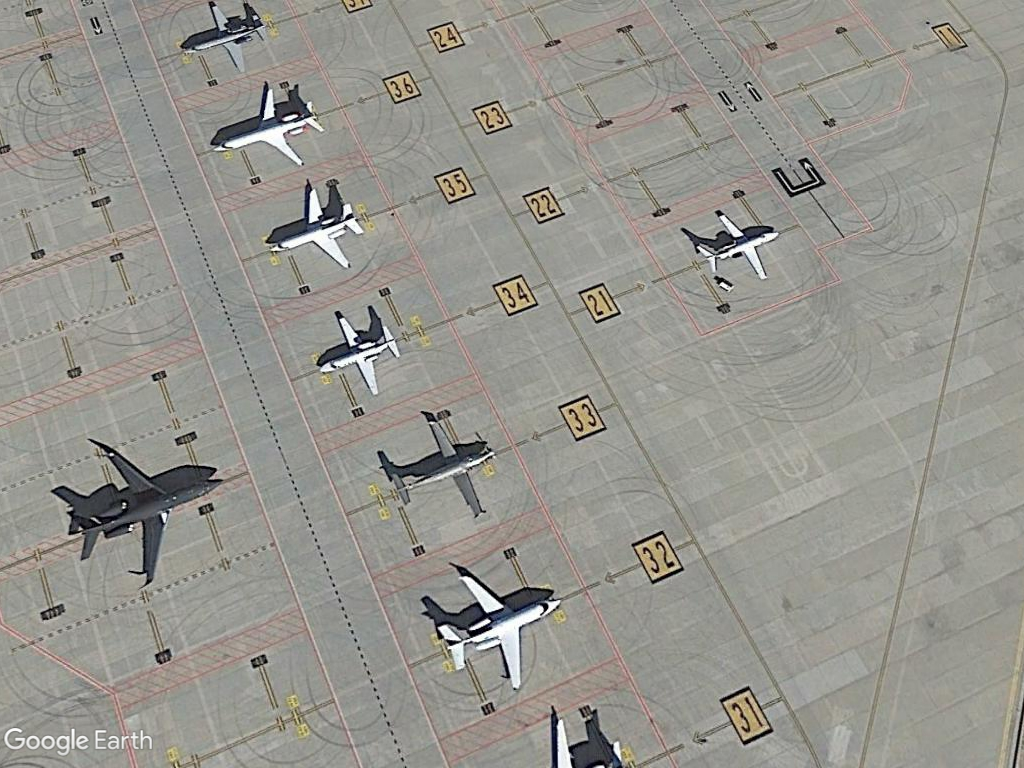chartered: (69, 445, 223, 591), (428, 568, 565, 693), (211, 83, 326, 172), (263, 188, 368, 274), (307, 313, 404, 399), (173, 0, 275, 75), (686, 211, 783, 283)
